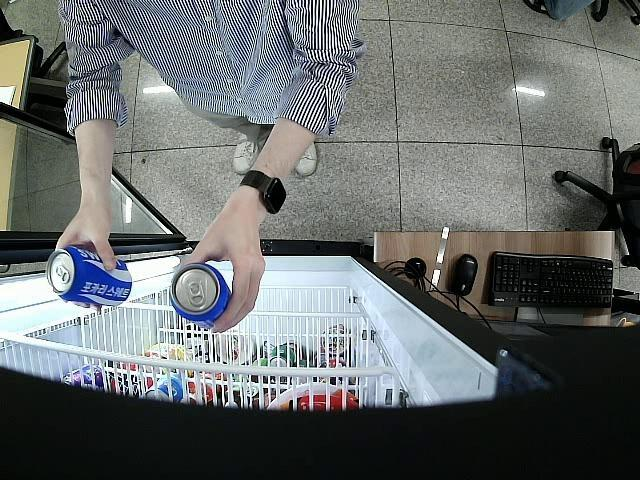13_pocariSweat: (46, 248, 133, 304), (170, 261, 230, 327)
